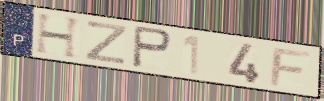1: (182, 34, 201, 76)
4: (225, 40, 263, 86)
F: (268, 47, 313, 88)
H: (34, 12, 85, 61)
P: (130, 24, 175, 71)
Z: (83, 19, 129, 66)
